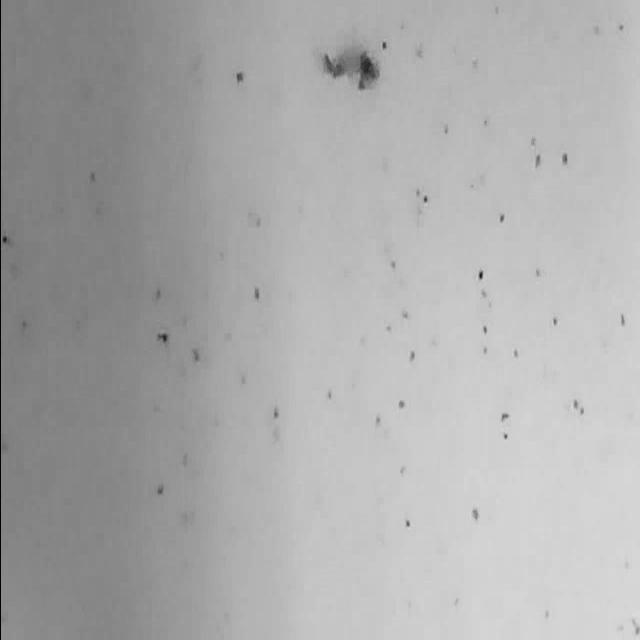larvas: (321, 48, 379, 78)
